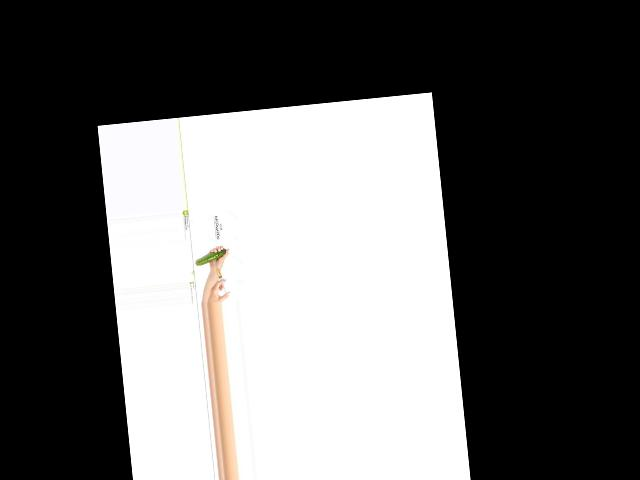cucumber: (193, 248, 227, 266)
